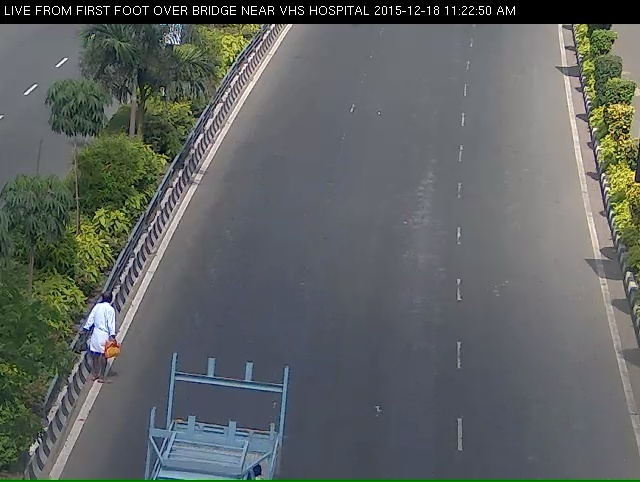Auto: (118, 376, 287, 478)
